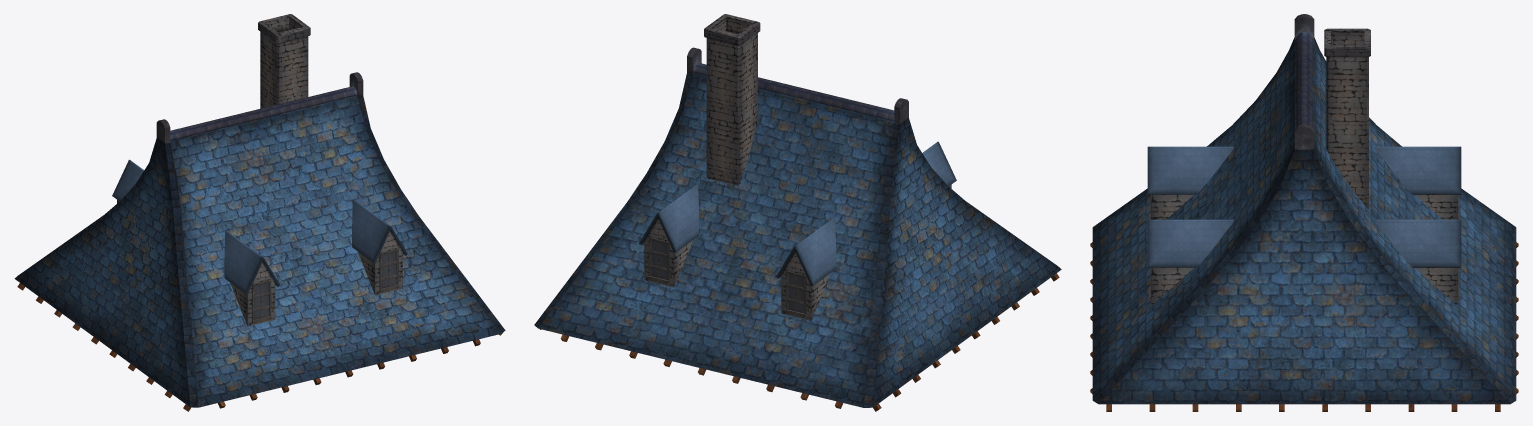
File: sb_obj_outdoor002_DemonsCastle01_roof02.fbx
The picture shows the model from 3 angles, left to right: view 1: azimuth 30°, elevation 25°; view 2: azimuth 150°, elevation 25°; view 3: azimuth 270°, elevation 25°; orthographic projection. The views are drawn at different scales.
Visible parts, largest first — view 1: sb_obj_outdoor002_DemonsCastle01_roof02; view 2: sb_obj_outdoor002_DemonsCastle01_roof02; view 3: sb_obj_outdoor002_DemonsCastle01_roof02.
Part boxes in pixels (box(x1,y1,x2,y2)): sb_obj_outdoor002_DemonsCastle01_roof02: box(14, 14, 505, 411); sb_obj_outdoor002_DemonsCastle01_roof02: box(534, 14, 1061, 411); sb_obj_outdoor002_DemonsCastle01_roof02: box(1090, 14, 1518, 411).
Bounding box in the file's own units: 9.98 × 7.9 × 9.92.
